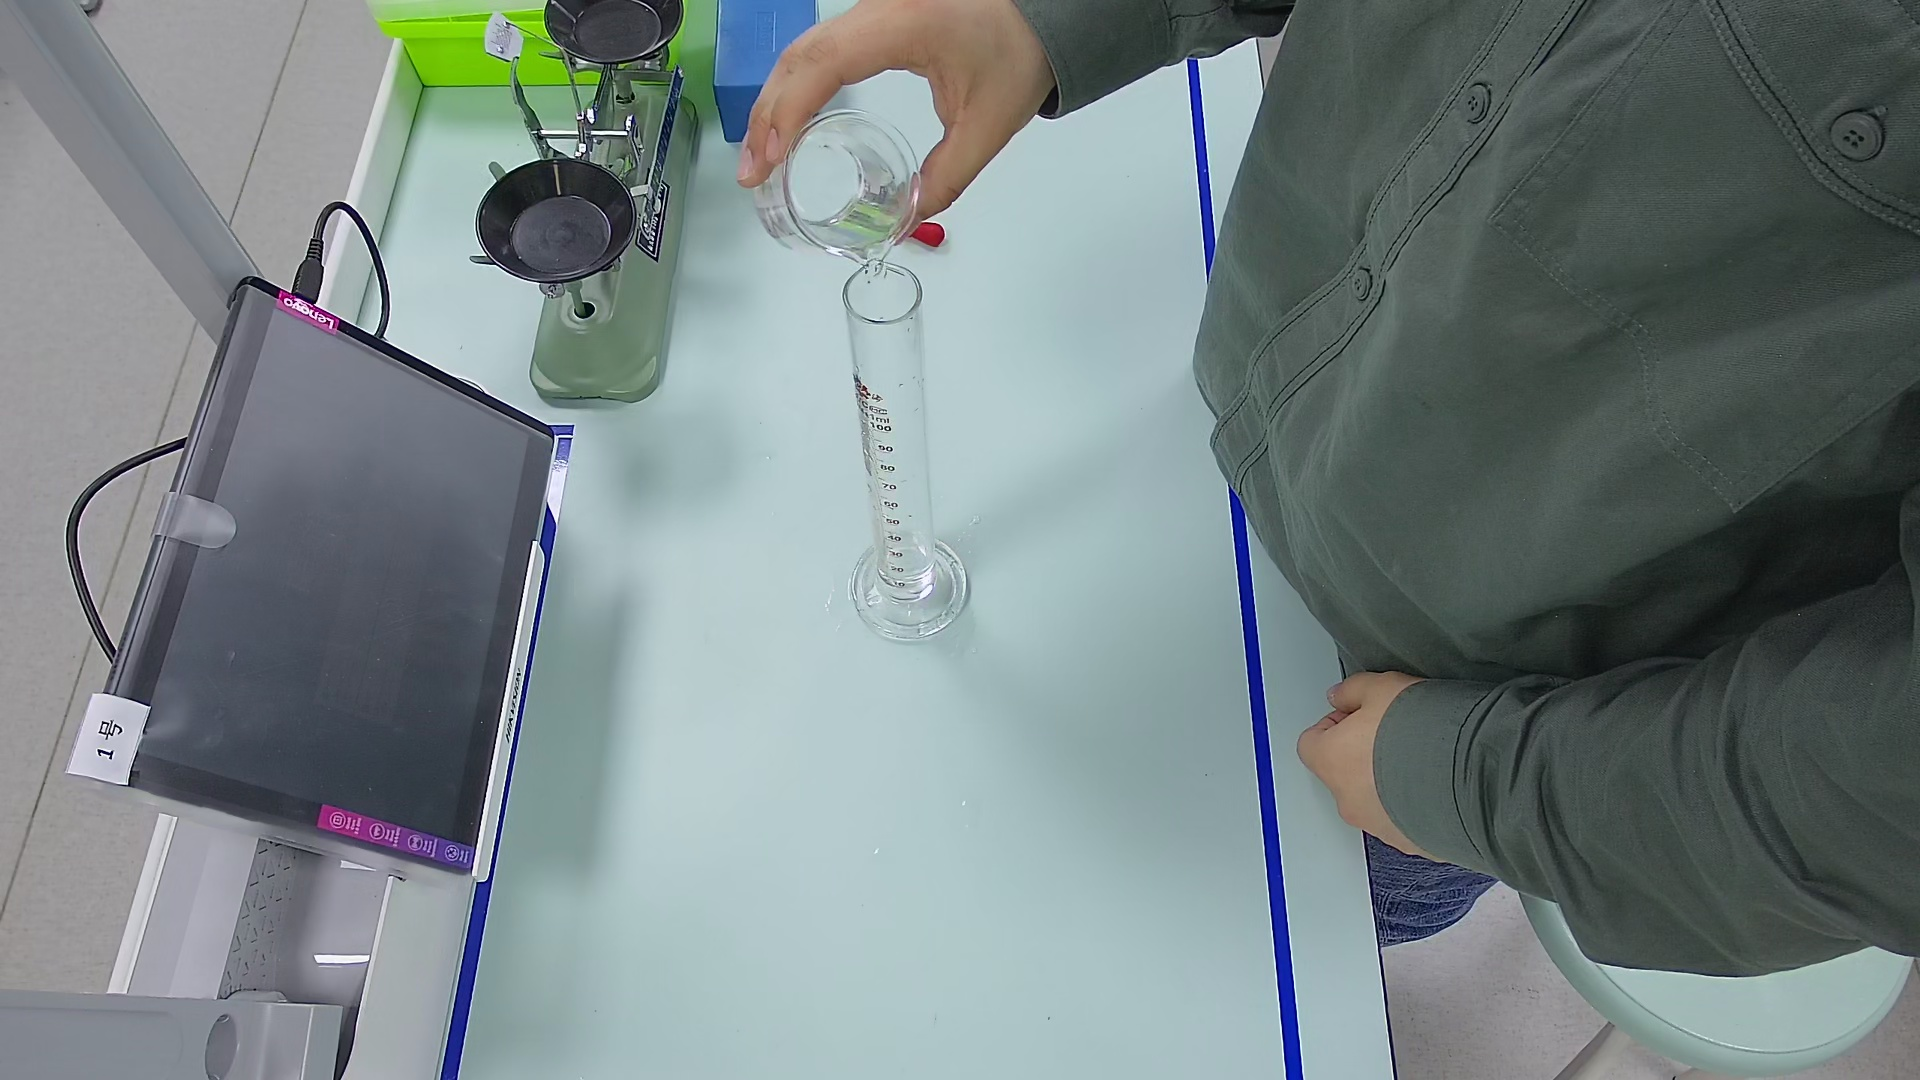ao: (872, 524, 931, 578)
bei: (754, 109, 916, 272)
diguantou: (905, 219, 949, 245)
hand: (735, 7, 1036, 232)
liangdi: (843, 538, 975, 646)
liangtong: (837, 260, 975, 644)
tuo: (476, 156, 649, 284), (543, 1, 692, 71)
